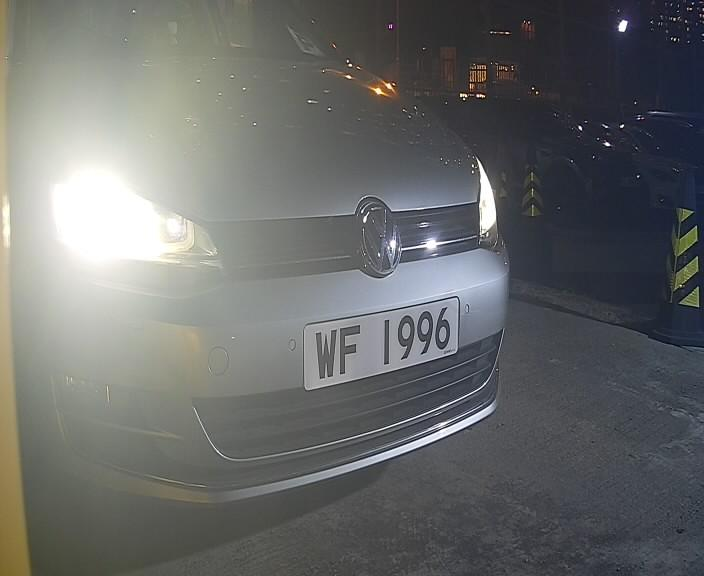License Plate: (296, 291, 466, 389)
